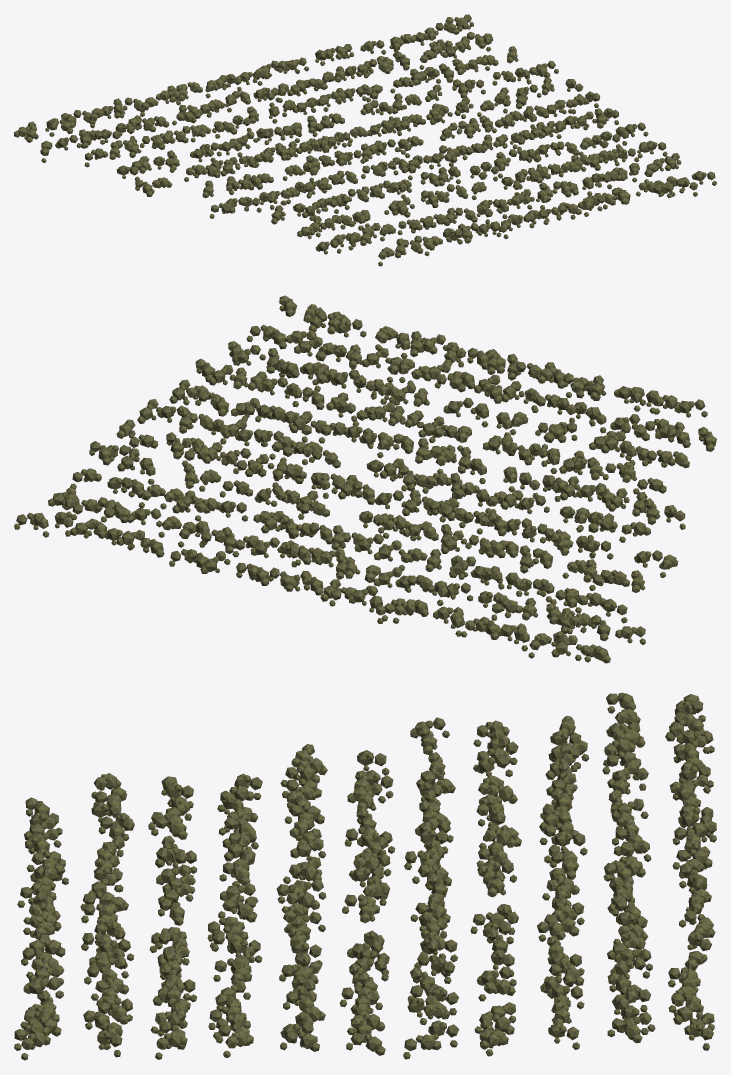
Rendered from orchard_leaves.dae.
3 views of the same model, one above another, from view 1: azimuth 30°, elevation 25°; view 2: azimuth 150°, elevation 25°; view 3: azimuth 270°, elevation 25° (orthographic). The views are drawn at different scales.
Parts seen in each view (by area): view 1: Tree_lp_11.058; view 2: Tree_lp_11.058; view 3: Tree_lp_11.058.
Boxes of the visible parts, bbox=[...] form: Tree_lp_11.058: bbox=[14, 14, 716, 266]; Tree_lp_11.058: bbox=[14, 295, 716, 663]; Tree_lp_11.058: bbox=[14, 692, 716, 1060].
Bounding box in the file's own units: 38.78 × 32.49 × 1.57.
1 material, 1 textured.
